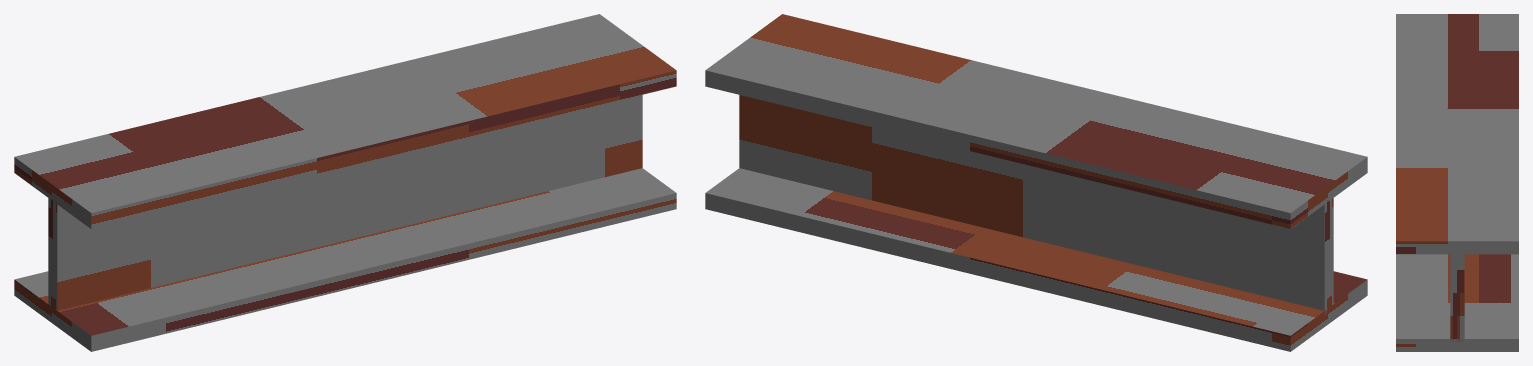
The model's file is Metal.fbx.
3 renders of one model, left to right at view 1: azimuth 30°, elevation 25°; view 2: azimuth 150°, elevation 25°; view 3: azimuth 270°, elevation 25°, orthographic. The views are drawn at different scales.
Parts seen in each view (by area): view 1: Metal; view 2: Metal; view 3: Metal.
Part boxes in pixels (bbox=[...]): Metal: bbox=[14, 14, 676, 351]; Metal: bbox=[705, 14, 1367, 351]; Metal: bbox=[1396, 14, 1518, 351].
Size of the model in its own units: 4.09 by 0.9272 by 0.9328.
